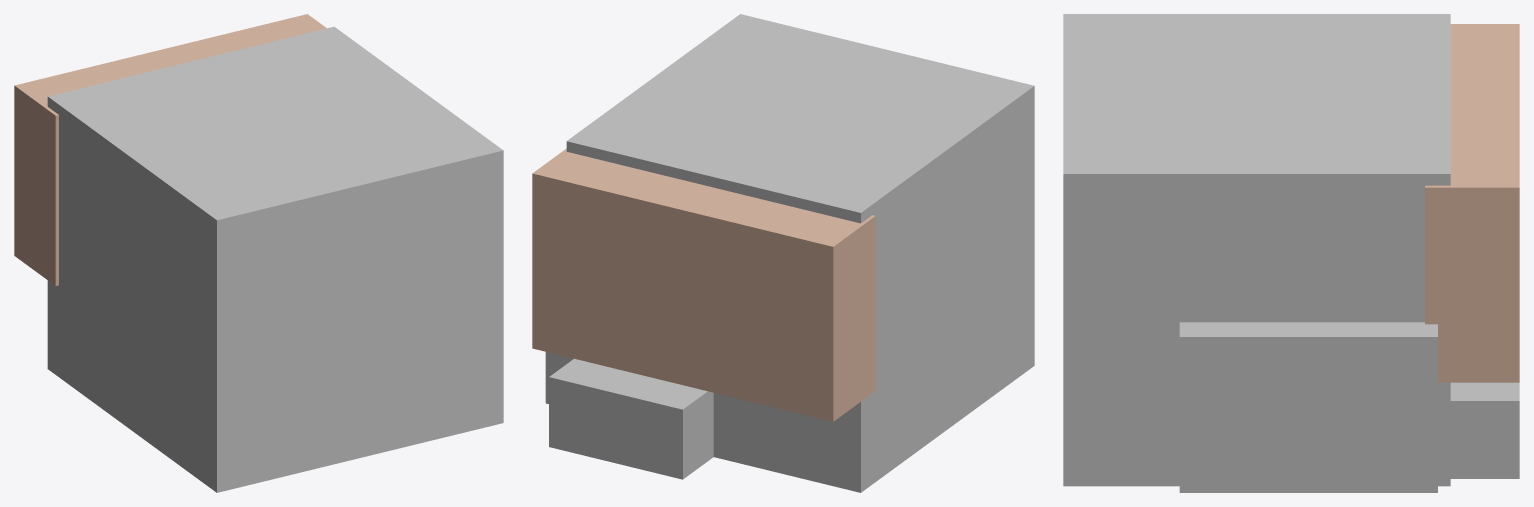
File: fist2_L.obj
The picture shows the model from 3 angles, left to right: view 1: azimuth 30°, elevation 25°; view 2: azimuth 150°, elevation 25°; view 3: azimuth 270°, elevation 25°; orthographic projection. The views are drawn at different scales.
Visible parts, largest first — view 1: part0, part1; view 2: part0, part1, part3; view 3: part0, part2, part1, part3.
Boxes of the visible parts, x1,y1,x2,y2 form: part0: [47, 26, 503, 492]; part1: [14, 14, 326, 285]; part0: [566, 14, 1034, 492]; part1: [532, 148, 875, 421]; part3: [549, 358, 713, 479]; part0: [1063, 14, 1450, 486]; part2: [1179, 322, 1437, 492]; part1: [1425, 24, 1519, 382]; part3: [1450, 382, 1519, 478].
Bounding box in the file's own units: 0.097 × 0.08 × 0.106.
